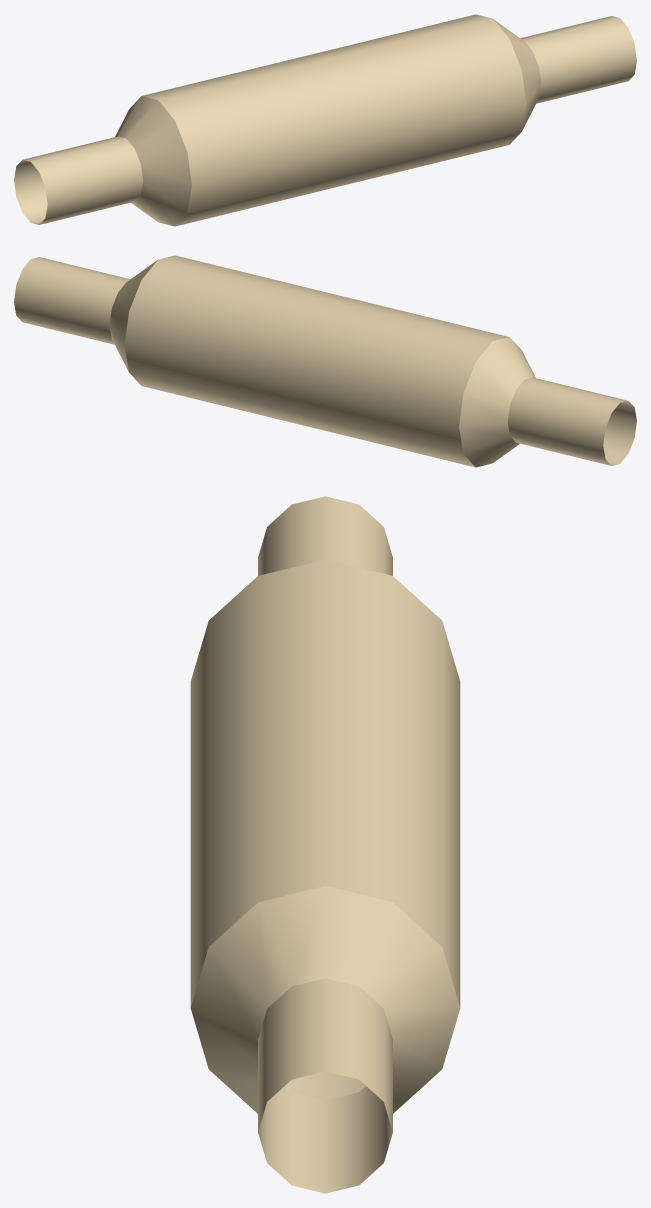
The model's file is SM_C26_Bail_Single.fbx.
3 renders of one model, top to bottom at view 1: azimuth 30°, elevation 25°; view 2: azimuth 150°, elevation 25°; view 3: azimuth 270°, elevation 25°, orthographic. The views are drawn at different scales.
Parts seen in each view (by area): view 1: SM_C26_Bail_Single; view 2: SM_C26_Bail_Single; view 3: SM_C26_Bail_Single.
Part boxes in pixels (x1,y1,x2,y2): SM_C26_Bail_Single: (14,14,636,226); SM_C26_Bail_Single: (14,255,636,467); SM_C26_Bail_Single: (190,496,460,1193).
Bounding box in the file's own units: 11.1 × 2.2 × 2.2.
